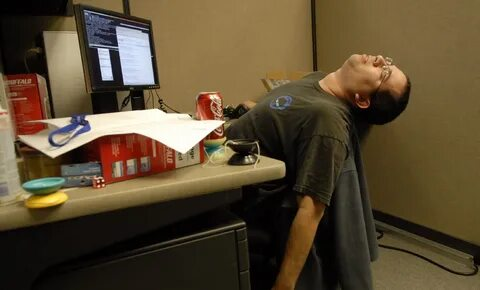sleep: (227, 53, 411, 158)
